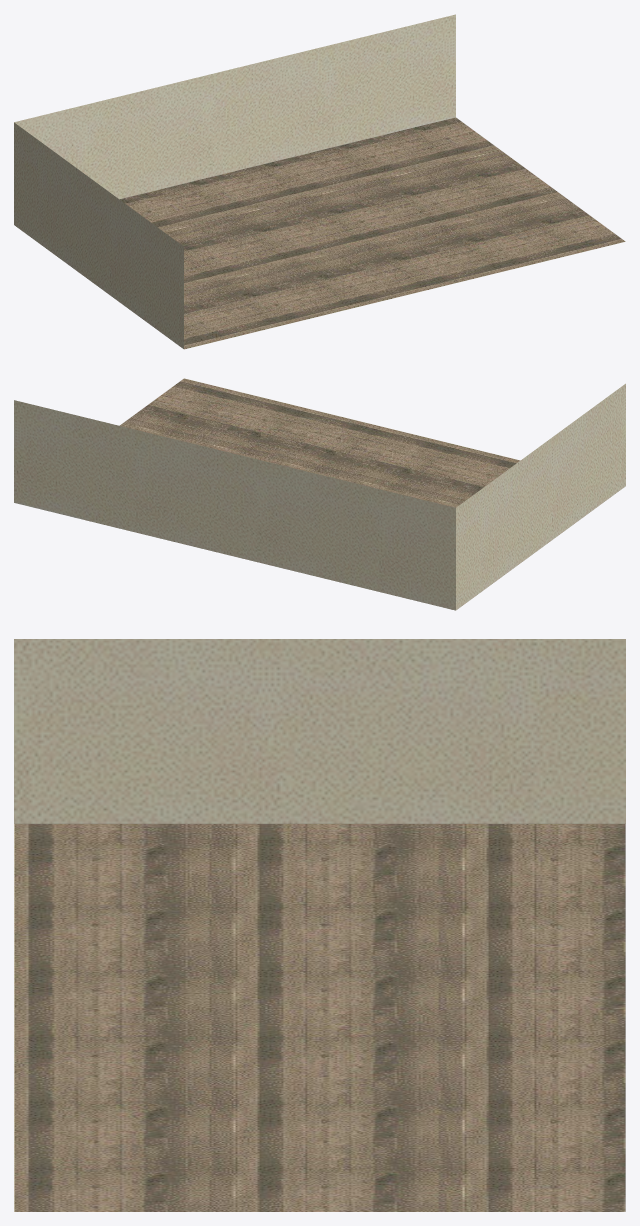
File: OfficeRoom.glb
3 renders of one model, top to bottom at view 1: azimuth 30°, elevation 25°; view 2: azimuth 150°, elevation 25°; view 3: azimuth 270°, elevation 25°, orthographic. The views are drawn at different scales.
Visible parts, largest first — view 1: Cube; view 2: Cube; view 3: Cube.
Part boxes in pixels (x1,y1,x2,y2): Cube: (14, 14, 625, 349); Cube: (14, 378, 625, 610); Cube: (14, 639, 625, 1211).
Size of the model in its own units: 9 by 2 by 6.
Materials: 1 (1 with a texture image).
